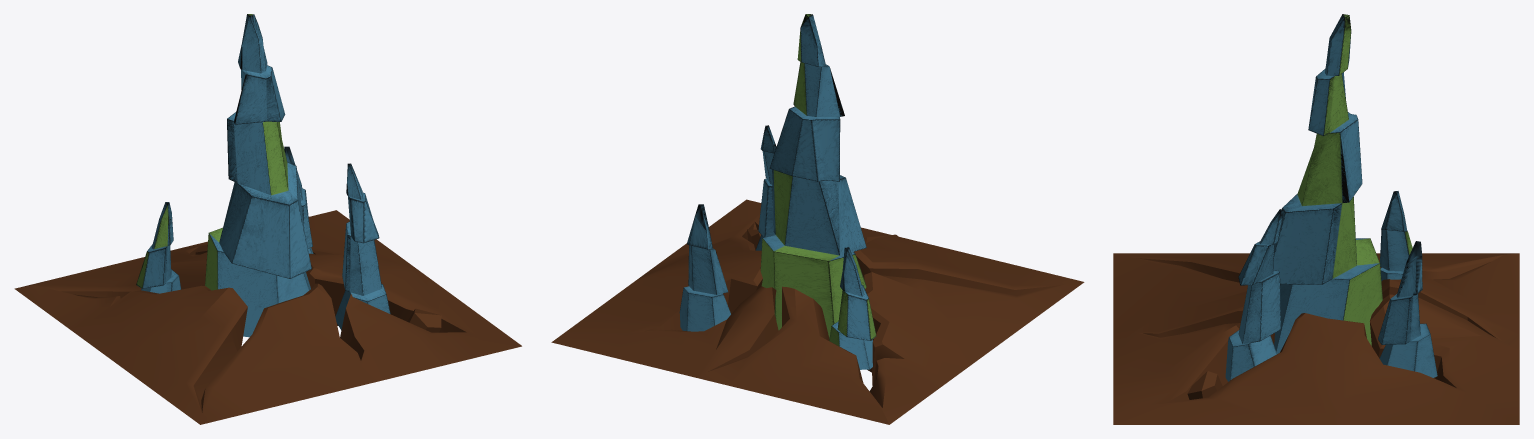
File: large_resources_terrain.fbx
3 renders of one model, left to right at view 1: azimuth 30°, elevation 25°; view 2: azimuth 150°, elevation 25°; view 3: azimuth 270°, elevation 25°, orthographic. The views are drawn at different scales.
Visible parts, largest first — view 1: large_resources_terrain; view 2: large_resources_terrain; view 3: large_resources_terrain.
Part boxes in pixels (x1,y1,x2,y2): large_resources_terrain: (14, 14, 521, 424); large_resources_terrain: (551, 14, 1084, 424); large_resources_terrain: (1113, 14, 1519, 424).
Size of the model in its own units: 200 by 187 by 200.
